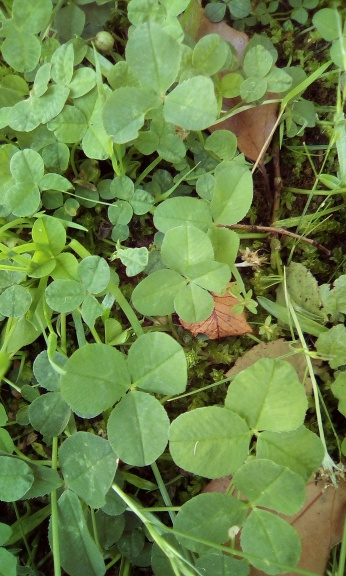4leaf: (131, 225, 232, 323)
